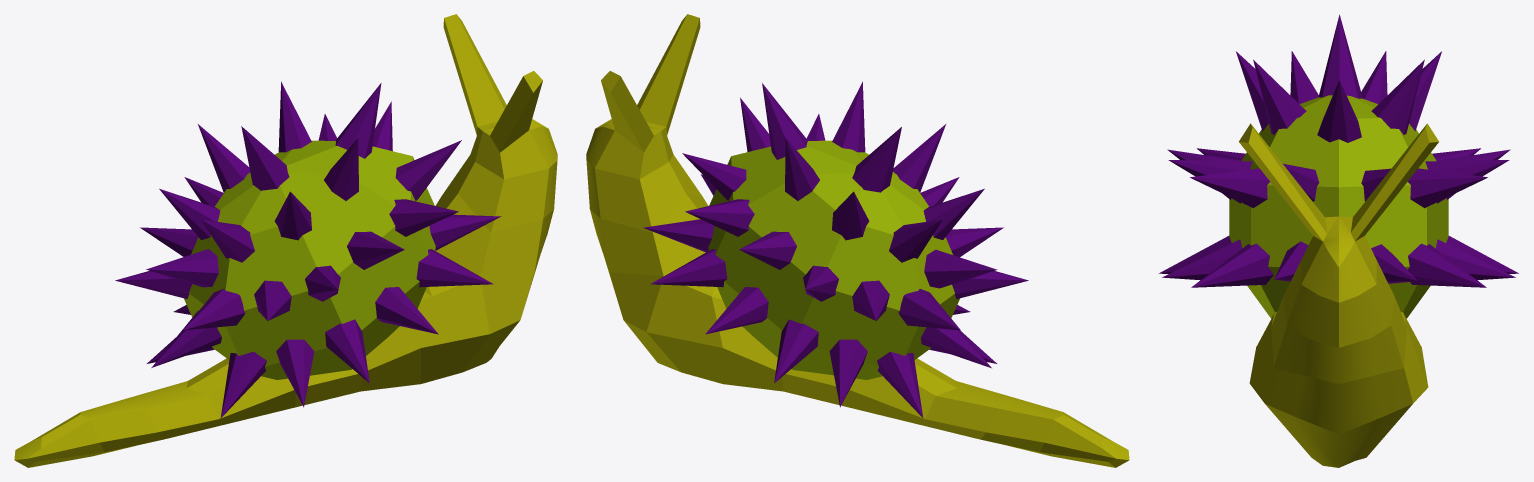
File: Snail.fbx
3 views of the same model, side by side, from view 1: azimuth 30°, elevation 25°; view 2: azimuth 150°, elevation 25°; view 3: azimuth 270°, elevation 25° (orthographic). The views are drawn at different scales.
Parts seen in each view (by area): view 1: Snail; view 2: Snail; view 3: Snail.
Boxes of the visible parts, bbox=[...] form: Snail: bbox=[14, 14, 557, 467]; Snail: bbox=[586, 14, 1129, 467]; Snail: bbox=[1159, 14, 1518, 467].
Size of the model in its own units: 425 by 236 by 220.
